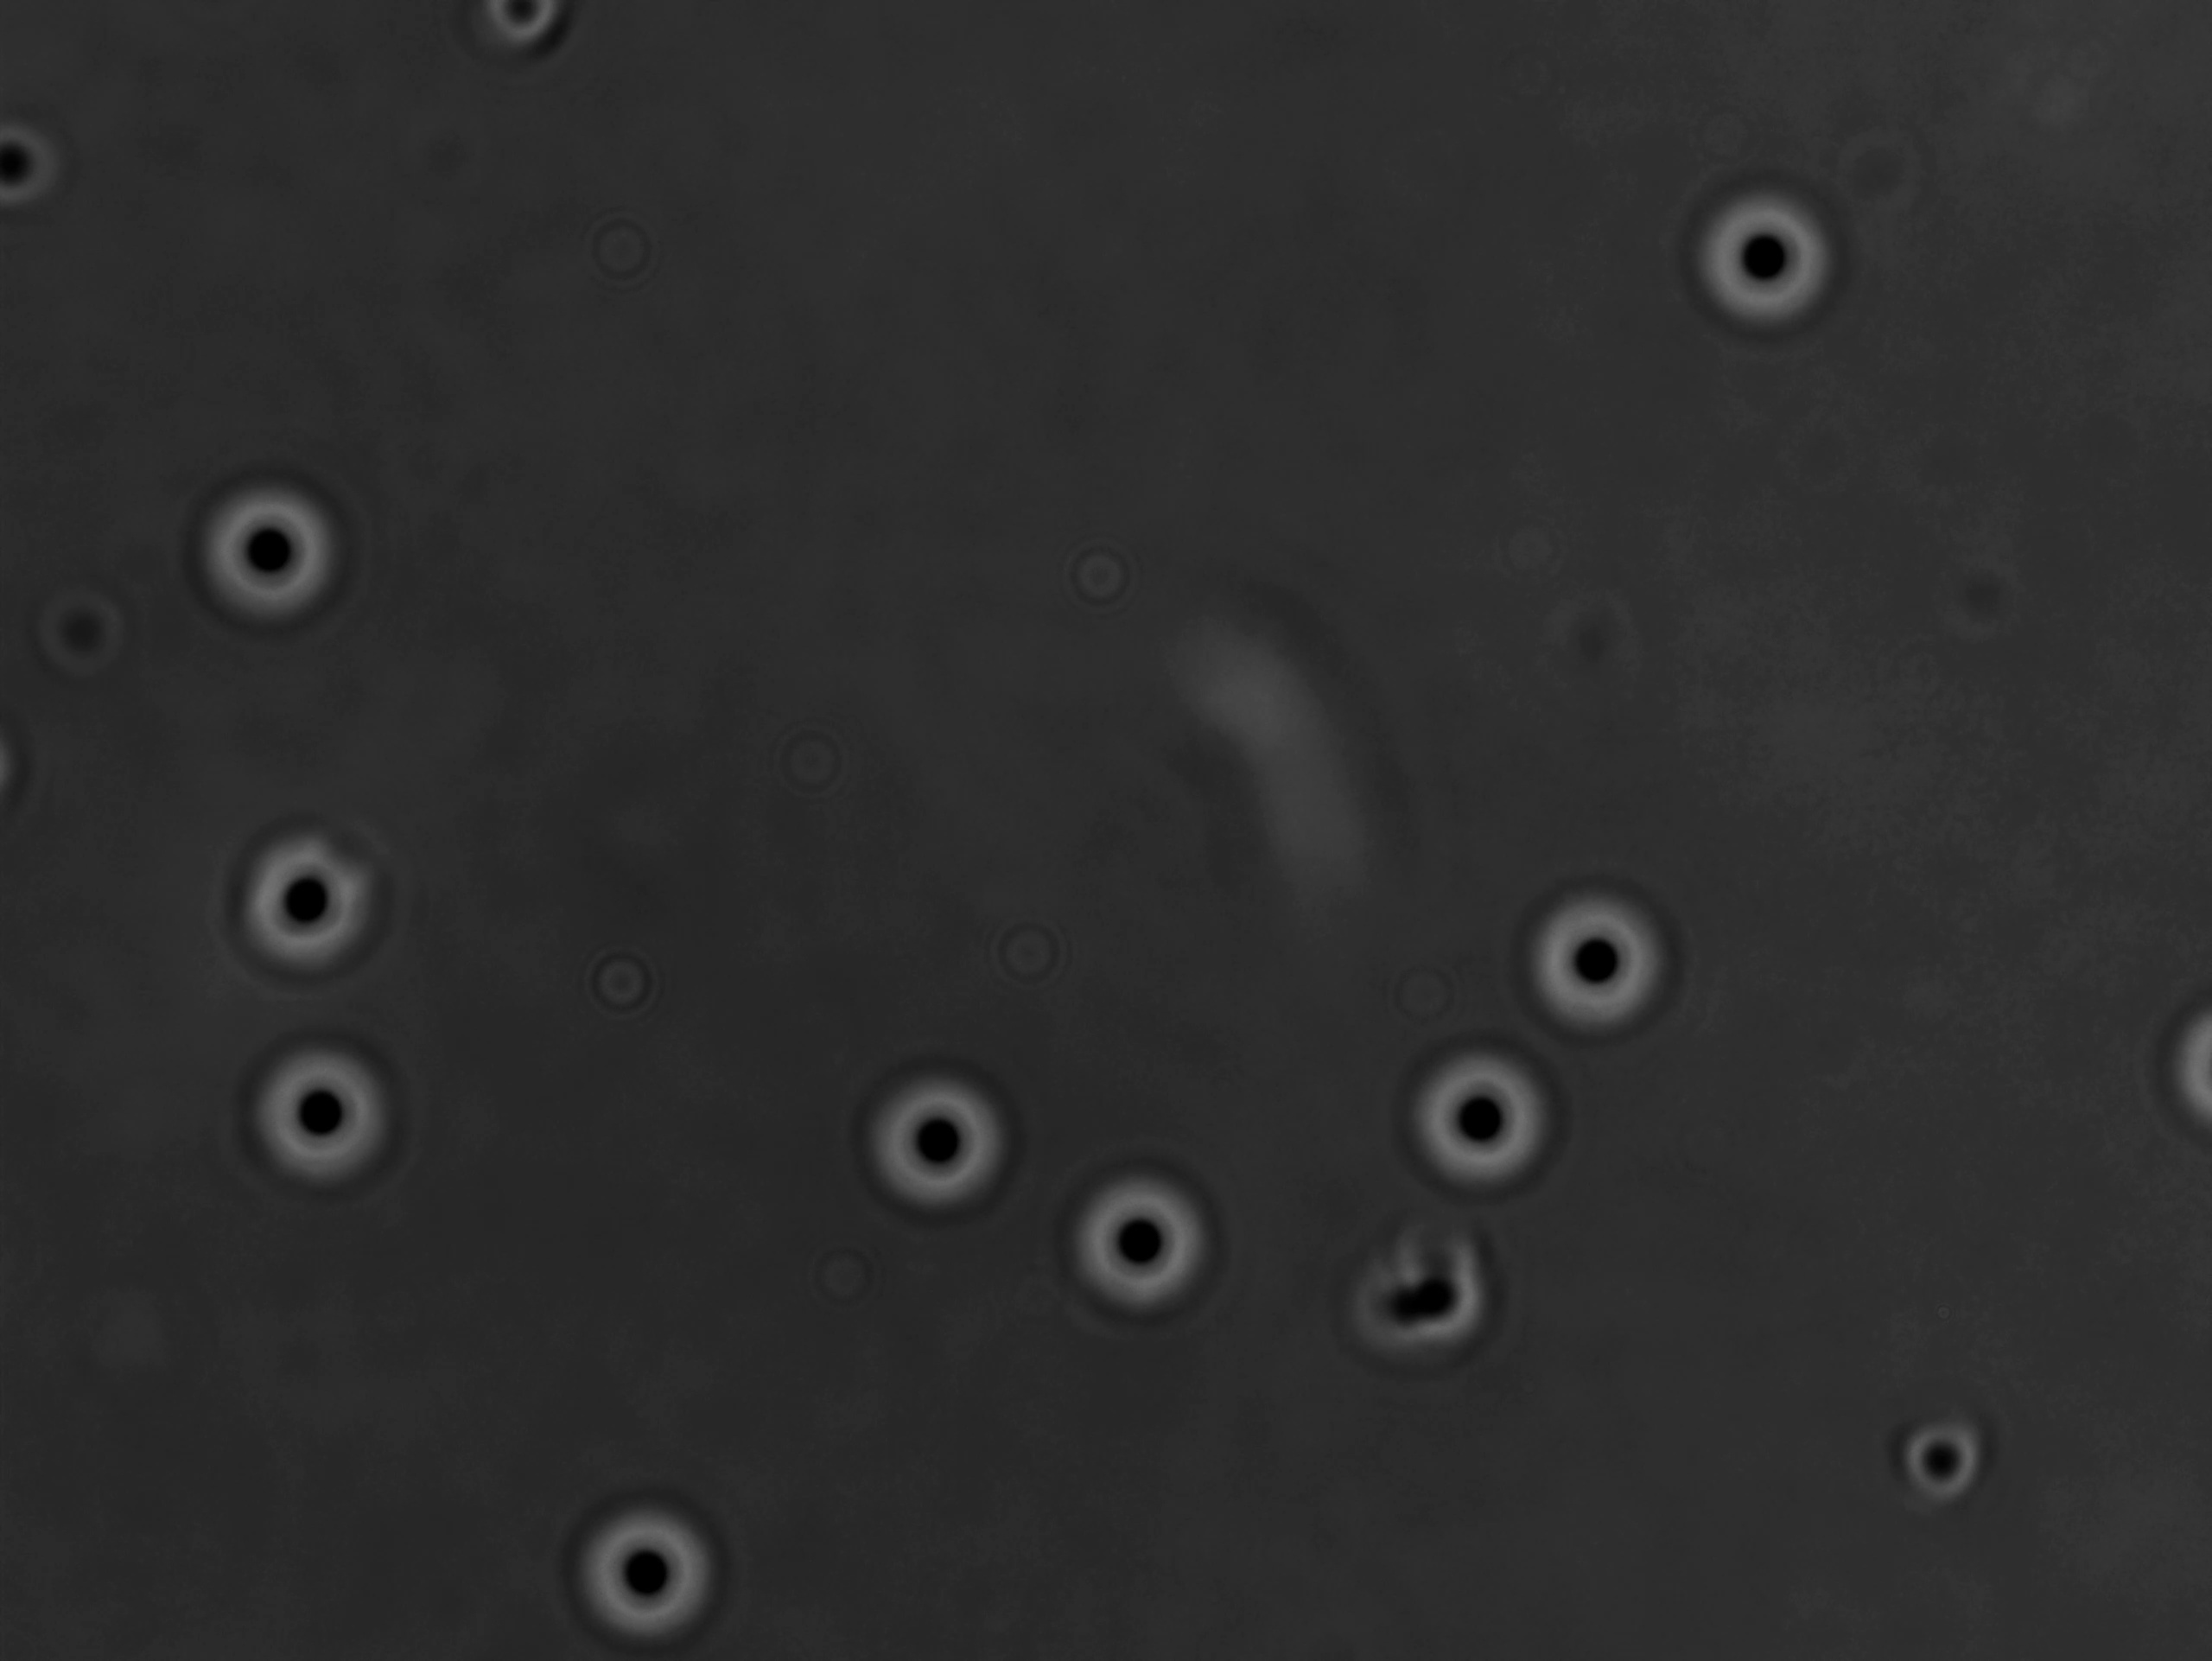depth:-40: (1396, 1022, 1577, 1206), (1680, 174, 1858, 351), (218, 813, 398, 982), (1504, 872, 1676, 1047), (562, 1485, 740, 1652), (1052, 1171, 1223, 1335), (192, 473, 359, 637), (244, 1031, 408, 1195), (857, 1059, 1021, 1220)
